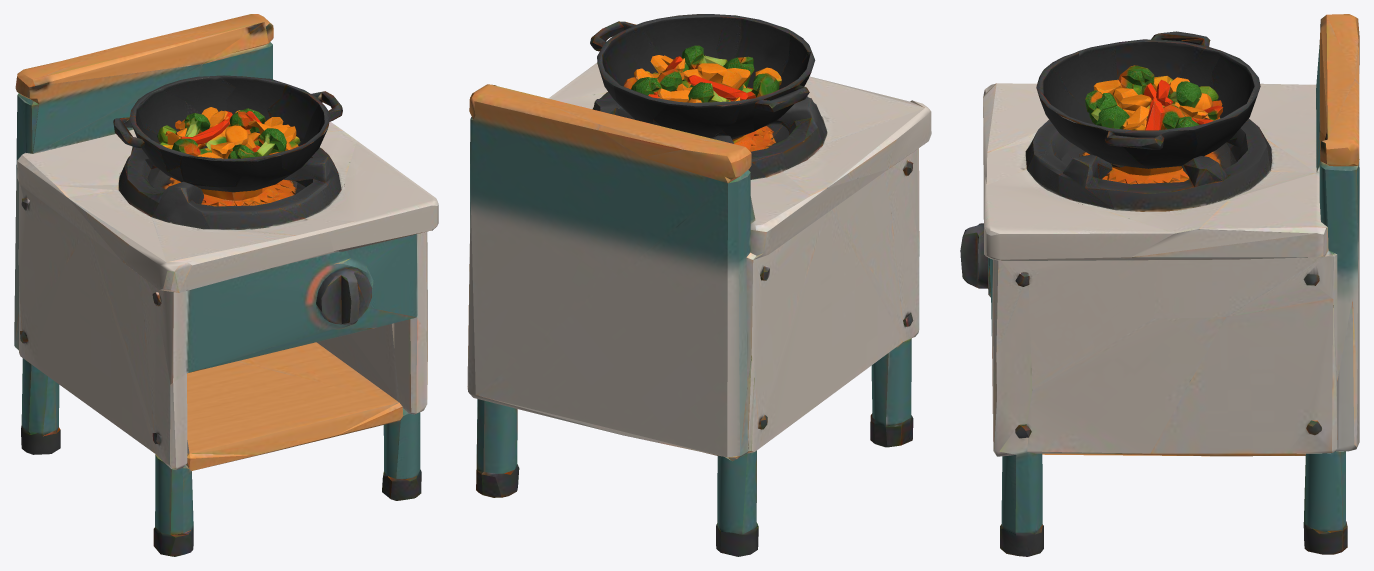
Rendered from rounded-restaurant-wok-burner-food-in-wok.glb.
3 views of the same model, side by side, from view 1: azimuth 30°, elevation 25°; view 2: azimuth 150°, elevation 25°; view 3: azimuth 270°, elevation 25° (orthographic). The views are drawn at different scales.
Visible parts, largest first — view 1: Mesh_0; view 2: Mesh_0; view 3: Mesh_0.
Boxes of the visible parts, <box> form: Mesh_0: <box>14,14,438,556</box>; Mesh_0: <box>467,14,931,556</box>; Mesh_0: <box>960,14,1359,556</box>.
Size of the model in its own units: 0.6224 by 0.7966 by 0.7.
Materials: 1 (1 with a texture image).
